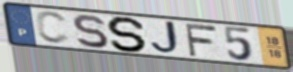5: (223, 26, 259, 63)
C: (34, 10, 73, 46)
F: (182, 22, 219, 58)
J: (149, 20, 185, 56)
S: (105, 16, 149, 54), (70, 13, 111, 49)
